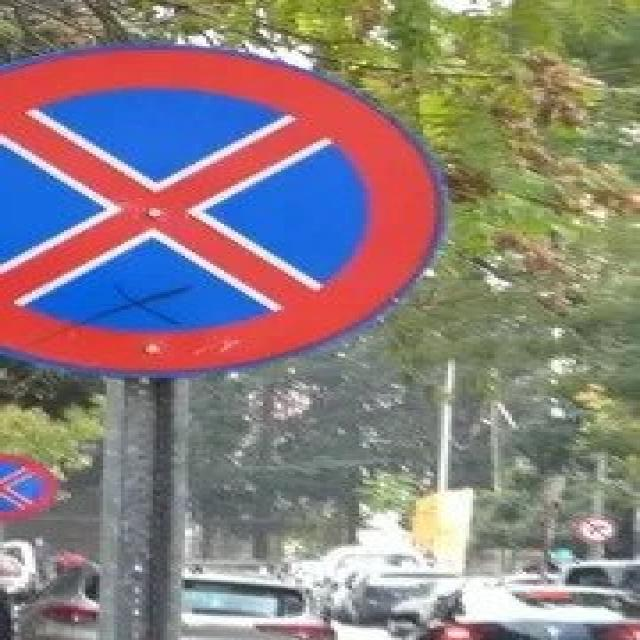no stopping: (0, 42, 459, 384)
